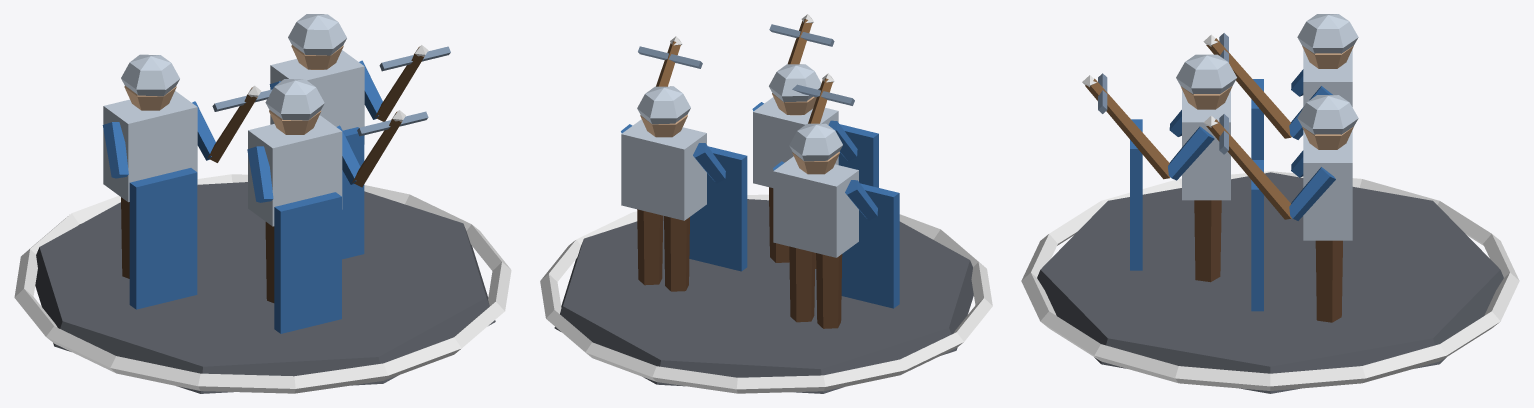
Rendered from pd_ship.fbx.
The picture shows the model from 3 angles, left to right: view 1: azimuth 30°, elevation 25°; view 2: azimuth 150°, elevation 25°; view 3: azimuth 270°, elevation 25°; orthographic projection. The views are drawn at different scales.
Parts seen in each view (by area): view 1: pd_ship; view 2: pd_ship; view 3: pd_ship.
Boxes of the visible parts, x1,y1,x2,y2 form: pd_ship: (14, 14, 511, 393); pd_ship: (540, 14, 992, 393); pd_ship: (1021, 14, 1519, 393).
Bounding box in the file's own units: 1.56 × 0.8282 × 1.56.
2 materials, 1 textured.
